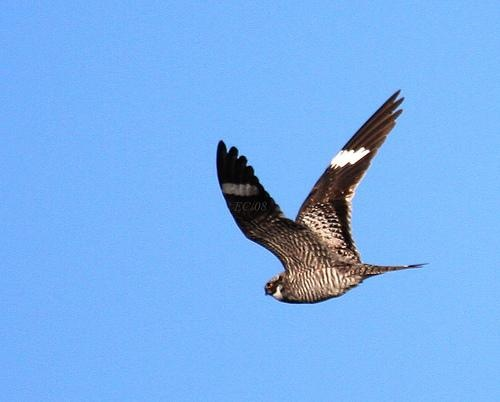bird: (212, 84, 421, 308)
